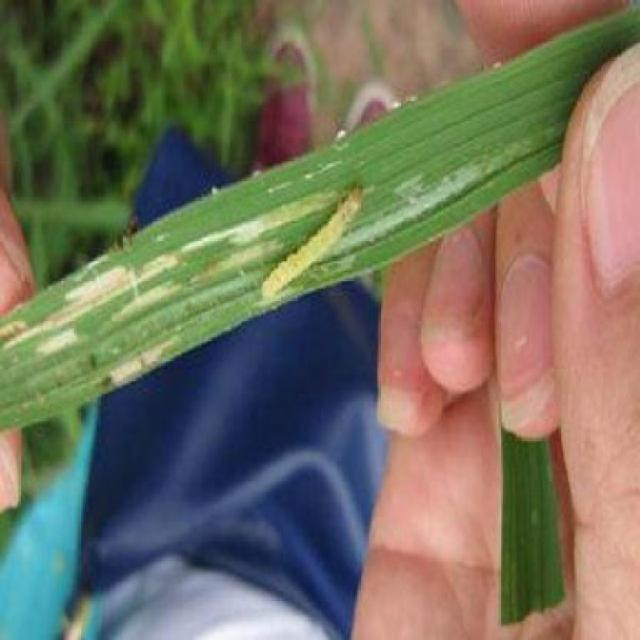leaf-folder: (256, 172, 364, 312)
